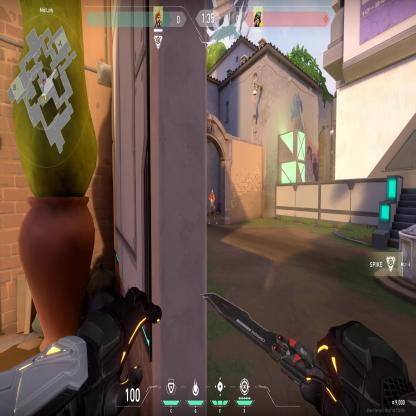enemy: (208, 189, 218, 224)
